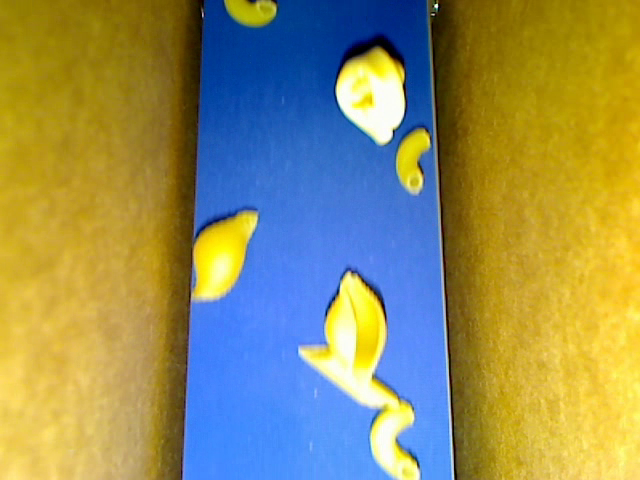elbow: (368, 400, 420, 479), (394, 129, 430, 195), (224, 1, 276, 27)
penne: (297, 344, 401, 407)
shell: (324, 269, 387, 381), (190, 208, 259, 301)
tortellini: (335, 46, 405, 145)
